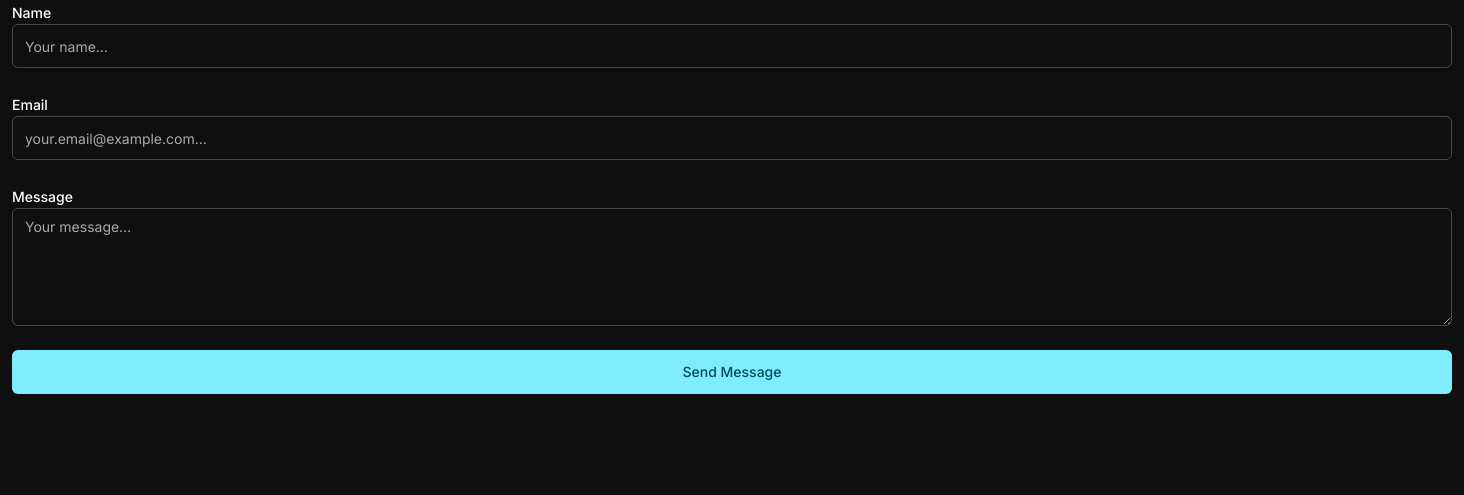
Test: ContactForm › keeps submit enabled and shows validation errors on submit
Click the button "Send Message": [732, 372] box left=12, top=350, right=1452, bottom=394
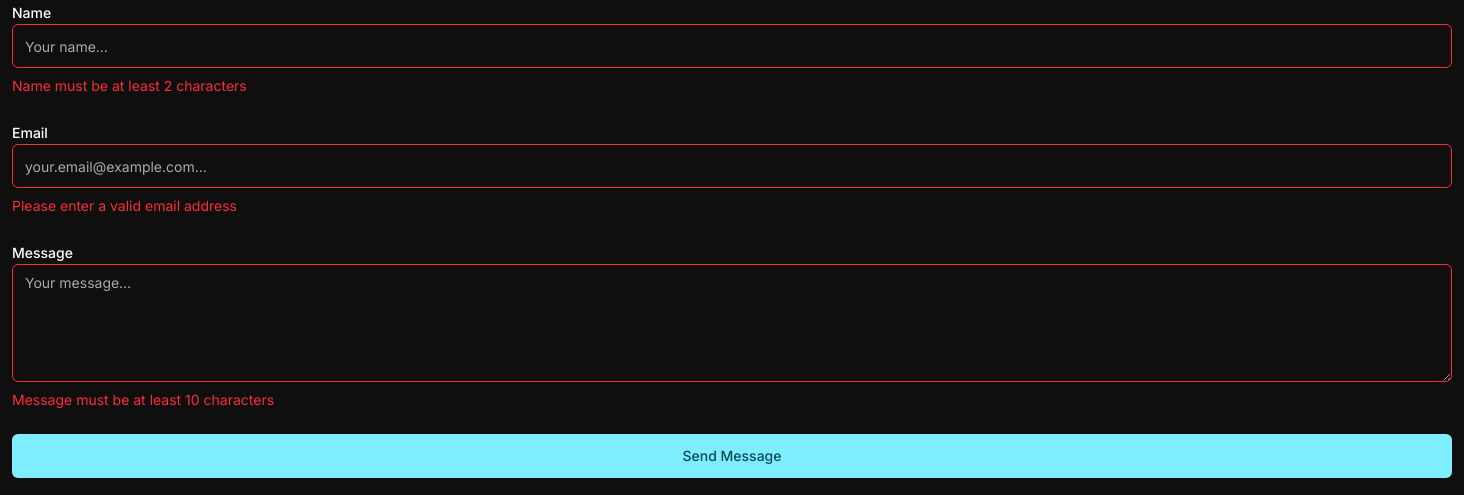
Now the text "Name must be at least 2 characters" is shown, box left=12, top=77, right=247, bottom=94
Now the text "Please enter a valid email address" is shown, box left=12, top=197, right=237, bottom=214
Now the text "Message must be at least 10 characters" is shown, box left=12, top=391, right=274, bottom=408
